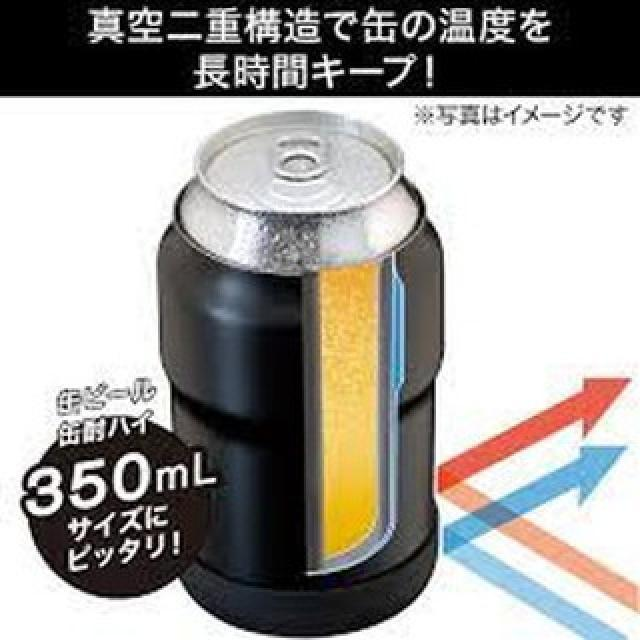can: (156, 111, 444, 638)
